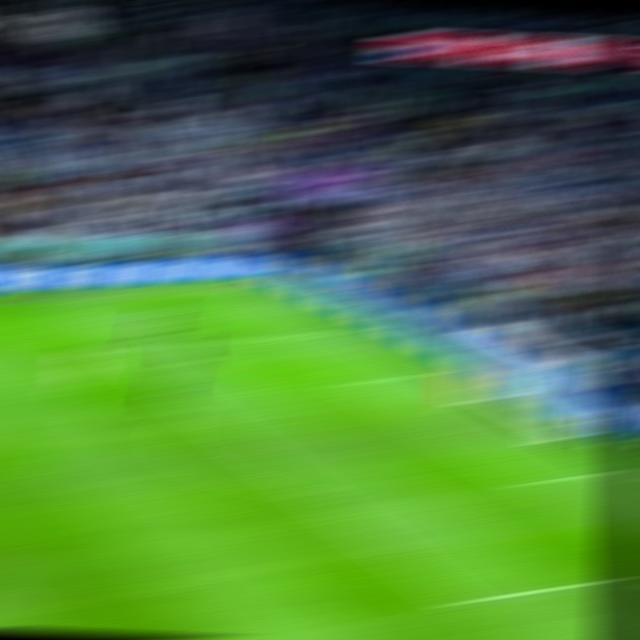bigarea_bottom_inner: (444, 596, 477, 609)
bigarea_top_inner: (100, 346, 130, 354)
bigarea_top_outter: (322, 328, 357, 337)
bottom_arc_area_intersection: (295, 489, 327, 497)
corner: (237, 285, 270, 292)
smallarea_bottom_inner: (509, 479, 539, 488)
smallarea_bottom_outter: (597, 470, 630, 477)
smallarea_top_inner: (334, 379, 365, 388)
smallarea_top_outter: (407, 372, 440, 379)
top_arc_area_intersection: (179, 405, 210, 410)
